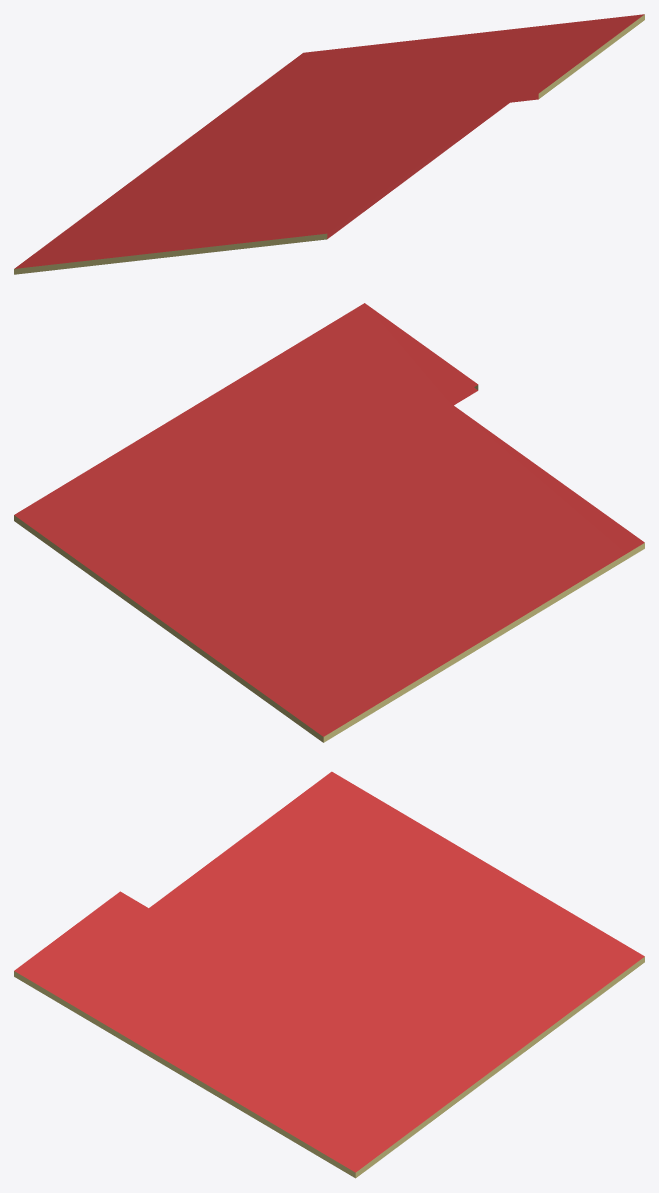
The picture shows the model from 3 angles, top to bottom: view 1: azimuth 90°, elevation 25°; view 2: azimuth 150°, elevation 25°; view 3: azimuth 270°, elevation 25°; orthographic projection. The views are drawn at different scales.
Bounding box in the file's own units: 10.76 × 9.86 × 2.17.
